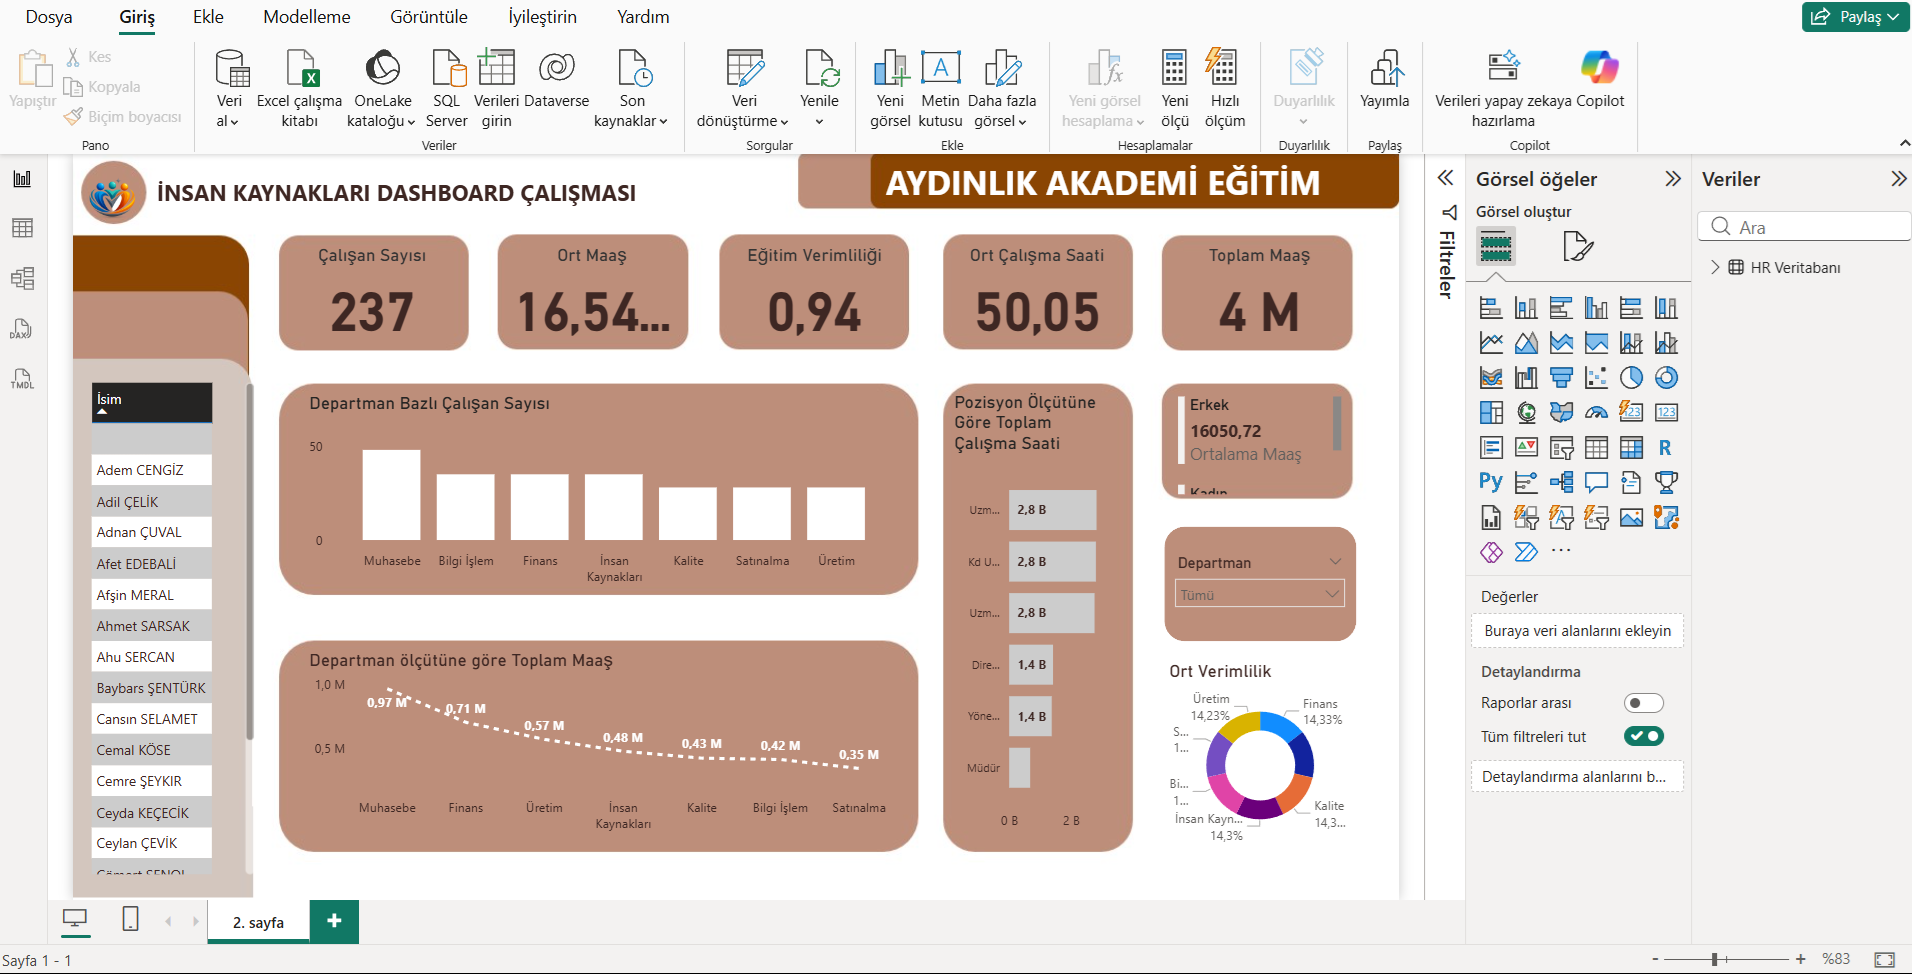

The dashboard page shown, as its layout file describes it:
{"tool":"powerbi","page":{"name":"2. sayfa","canvas":[1280,720],"ordinal":0},"visuals":[{"type":"card","title":"Çalışan Sayısı","fields":{"Values":["CountNonNull(HR Veritabanı.Maaş)"]},"box":[205.5,87.3,167.3,98.2],"z":0},{"type":"card","title":"Ort Çalışma Saati","fields":{"Values":["Avg(HR Veritabanı.Çalışma Saati)"]},"box":[847.3,86.4,167.3,98.2],"z":1000},{"type":"card","title":"Ort Maaş","fields":{"Values":["Avg(HR Veritabanı.Maaş)"]},"box":[417.3,86.4,167.3,98.2],"z":2000},{"type":"card","title":"Eğitim Verimliliği","fields":{"Values":["Avg(HR Veritabanı.Eğitim Verimliliği)"]},"box":[631.8,86.4,167.3,98.2],"z":3000},{"type":"card","title":"Toplam Maaş","fields":{"Values":["Sum(HR Veritabanı.Maaş)"]},"box":[1061.8,86.4,167.3,98.2],"z":4000},{"type":"multiRowCard","fields":{"Values":["HR Veritabanı.Cinsiyet","Avg(HR Veritabanı.Maaş)"]},"box":[1061.8,229.1,167.3,104.5],"z":5000},{"type":"columnChart","title":"Departman Bazlı Çalışan Sayısı","fields":{"Y":["CountNonNull(HR Veritabanı.Departman)"],"Category":["HR Veritabanı.Departman"]},"box":[222.7,229.1,576.4,194.5],"z":6000},{"type":"lineChart","fields":{"Category":["HR Veritabanı.Departman"],"Y":["Sum(HR Veritabanı.Maaş)"]},"box":[222.7,477.3,576.4,184.5],"z":7000},{"type":"tableEx","fields":{"Values":["HR Veritabanı.İsim"]},"box":[11.8,215.5,168.2,484.5],"z":8000},{"type":"shape","box":[1052.7,360,185.5,110.9],"z":9000},{"type":"clusteredBarChart","title":"Pozisyon Ölçütüne Göre Toplam Çalışma Saati","fields":{"Category":["HR Veritabanı.Pozisyon"],"Y":["Sum(HR Veritabanı.Çalışma Saati)"]},"box":[845.5,229.1,178.2,432.7],"z":10000},{"type":"donutChart","title":"Ort Verimlilik","fields":{"Y":["Avg(HR Veritabanı.Eğitim Verimliliği)"],"Category":["HR Veritabanı.Departman"]},"box":[1052.7,489.1,185.5,182.7],"z":11000},{"type":"slicer","fields":{"Values":["HR Veritabanı.Departman"]},"box":[1052.7,381.8,184.5,63.6],"z":12000},{"type":"textbox","box":[779.1,0,489.1,52.7],"z":13000},{"type":"textbox","box":[76.4,16.4,484.5,43.6],"z":14000},{"type":"image","box":[0,0,76.1,93.8],"z":15000}]}

Visuals, with their boxes on the page's 1280x720 design canvas (x1, y1, x2, y2). These are canvas units, not pixel positions in the 1912x974 screenshot, which may show the page scaled, cropped or inside an application window:
"Çalışan Sayısı" card: bbox=[206, 87, 373, 186]
"Ort Çalışma Saati" card: bbox=[847, 86, 1015, 185]
"Ort Maaş" card: bbox=[417, 86, 585, 185]
"Eğitim Verimliliği" card: bbox=[632, 86, 799, 185]
"Toplam Maaş" card: bbox=[1062, 86, 1229, 185]
multiRowCard - HR Veritabanı.Cinsiyet x Avg(HR Veritabanı.Maaş): bbox=[1062, 229, 1229, 334]
"Departman Bazlı Çalışan Sayısı" columnChart: bbox=[223, 229, 799, 424]
lineChart - HR Veritabanı.Departman x Sum(HR Veritabanı.Maaş): bbox=[223, 477, 799, 662]
tableEx - HR Veritabanı.İsim: bbox=[12, 216, 180, 700]
shape: bbox=[1053, 360, 1238, 471]
"Pozisyon Ölçütüne Göre Toplam Çalışma Saati" clusteredBarChart: bbox=[846, 229, 1024, 662]
"Ort Verimlilik" donutChart: bbox=[1053, 489, 1238, 672]
slicer - HR Veritabanı.Departman: bbox=[1053, 382, 1237, 445]
textbox: bbox=[779, 0, 1268, 53]
textbox: bbox=[76, 16, 561, 60]
image: bbox=[0, 0, 76, 94]
